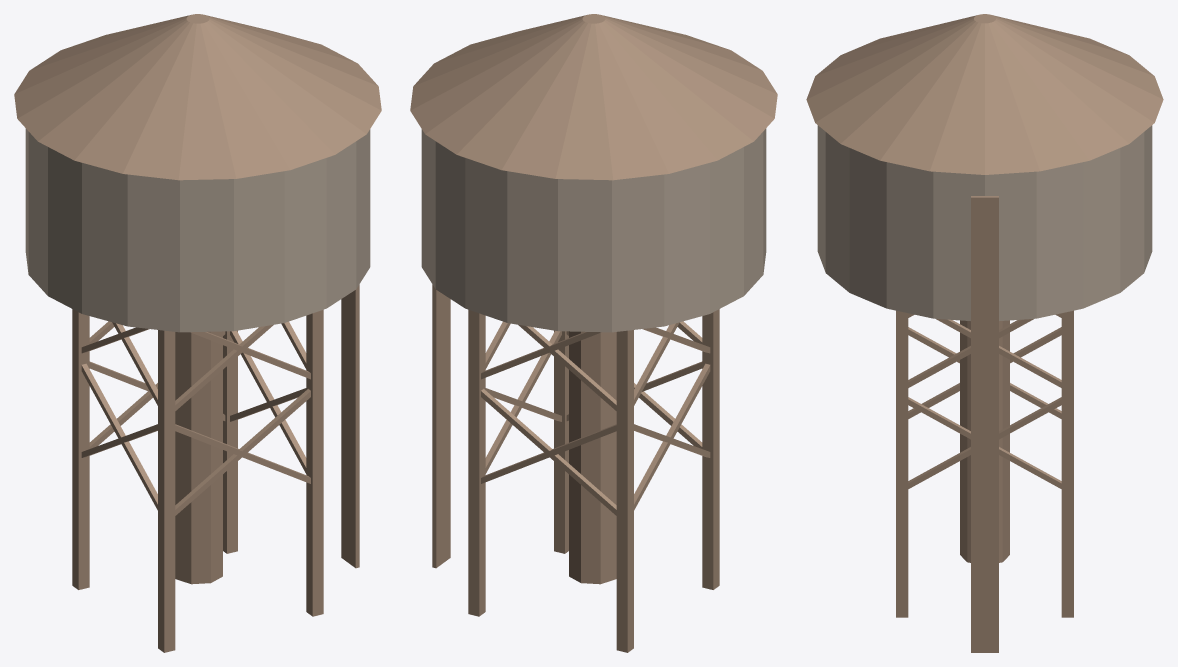
Rendered from dm_watertower.glb.
The picture shows the model from 3 angles, left to right: view 1: azimuth 30°, elevation 25°; view 2: azimuth 150°, elevation 25°; view 3: azimuth 270°, elevation 25°; orthographic projection. The views are drawn at different scales.
Visible parts, largest first — view 1: dm_watertower; view 2: dm_watertower; view 3: dm_watertower.
Part boxes in pixels (x1,y1,x2,y2): dm_watertower: (14,14,381,652); dm_watertower: (410,14,777,652); dm_watertower: (806,14,1163,652).
Size of the model in its own units: 6.4 by 11.1 by 6.4.
